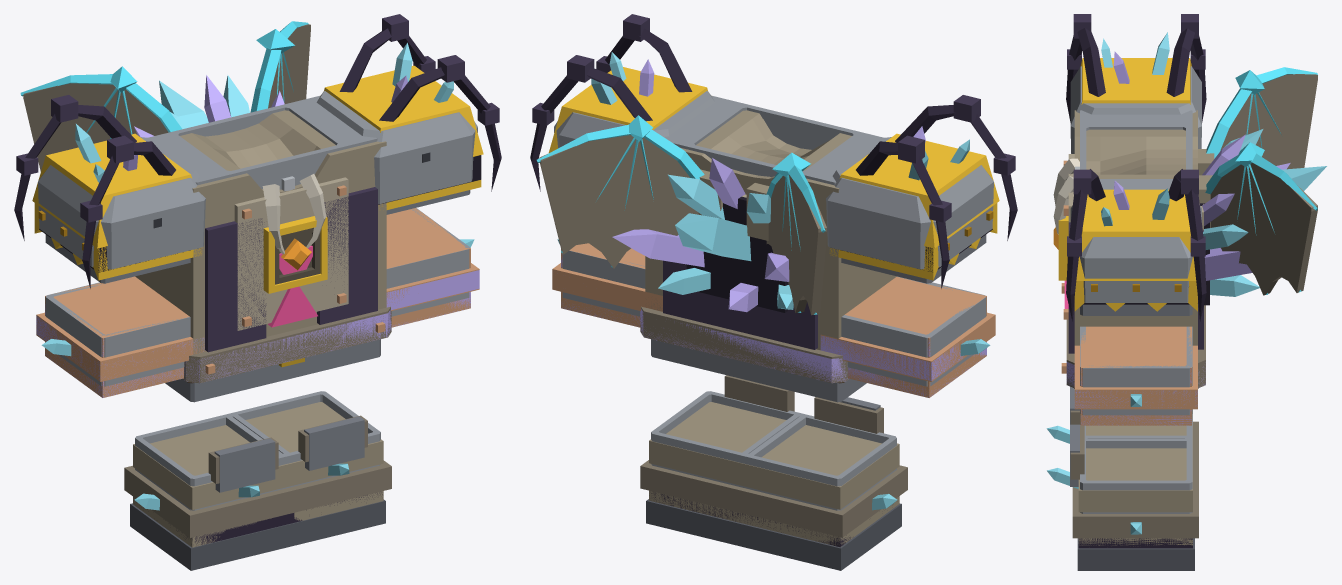
Rendered from w3_armor.fbx.
3 views of the same model, side by side, from view 1: azimuth 30°, elevation 25°; view 2: azimuth 150°, elevation 25°; view 3: azimuth 270°, elevation 25° (orthographic). The views are drawn at different scales.
Visible parts, largest first — view 1: CaveRunner.Chest, IronPlate.PauldronR, CrystalQueen.ChestPlates, CaveRunner.GloveR, CaveRunner.ChestStone, IronPlate.PauldronL, IronPlate.Plate, CaveRunner.HipStone, CaveRunner.PadR, CaveRunner.PadL, CaveRunner.BootIronR, CaveRunner.BackWingR (+36 smaller); view 2: CaveRunner.BackWingL, IronPlate.PauldronR, CaveRunner.GloveR, CaveRunner.Chest, CaveRunner.BootIronR, IronPlate.Plate, CrystalQueen.BurstCyan, CaveRunner.PadR, CaveRunner.BootIronL, CaveRunner.HipStone, CaveRunner.BackWingR, CrystalQueen.ChestPlates (+29 smaller); view 3: CaveRunner.GloveL, CaveRunner.BackWingL, CaveRunner.Chest, IronPlate.PauldronL, CaveRunner.BootIronL, CaveRunner.BackWingR, CaveRunner.PadL, IronPlate.BracerL, CaveRunner.BootGoldL, CaveRunner.PadR, CrystalQueen.LegsR, CaveRunner.WingRibs (+26 smaller).
Part boxes in pixels (x1=…): CaveRunner.Chest: x1=135, y1=95, x2=386, y2=354; IronPlate.PauldronR: x1=38, y1=137, x2=205, y2=269; CrystalQueen.ChestPlates: x1=205, y1=187, x2=377, y2=352; CaveRunner.GloveR: x1=36, y1=276, x2=205, y2=397; CaveRunner.ChestStone: x1=234, y1=177, x2=348, y2=330; IronPlate.PauldronL: x1=316, y1=90, x2=477, y2=203; IronPlate.Plate: x1=148, y1=96, x2=377, y2=189; CaveRunner.HipStone: x1=182, y1=306, x2=391, y2=383; CaveRunner.PadR: x1=32, y1=133, x2=202, y2=280; CaveRunner.PadL: x1=323, y1=65, x2=483, y2=209; CaveRunner.BootIronR: x1=133, y1=425, x2=293, y2=510; CaveRunner.BackWingR: x1=23, y1=83, x2=168, y2=171; CaveRunner.BackWingL: x1=539, y1=135, x2=698, y2=268; IronPlate.PauldronR: x1=826, y1=137, x2=993, y2=269; CaveRunner.GloveR: x1=820, y1=276, x2=995, y2=397; CaveRunner.Chest: x1=645, y1=95, x2=896, y2=350; CaveRunner.BootIronR: x1=738, y1=425, x2=899, y2=509; IronPlate.Plate: x1=664, y1=96, x2=883, y2=185; CrystalQueen.BurstCyan: x1=658, y1=174, x2=793, y2=309; CaveRunner.PadR: x1=829, y1=133, x2=999, y2=280; CaveRunner.BootIronL: x1=649, y1=402, x2=805, y2=487; CaveRunner.HipStone: x1=640, y1=306, x2=849, y2=383; CaveRunner.BackWingR: x1=766, y1=175, x2=826, y2=315; CrystalQueen.ChestPlates: x1=663, y1=260, x2=817, y2=349; CaveRunner.GloveL: x1=1074, y1=326, x2=1197, y2=425; CaveRunner.BackWingL: x1=1210, y1=162, x2=1317, y2=295; CaveRunner.Chest: x1=1074, y1=110, x2=1197, y2=345; IronPlate.PauldronL: x1=1070, y1=187, x2=1201, y2=302; CaveRunner.BootIronL: x1=1078, y1=443, x2=1192, y2=512; CaveRunner.BackWingR: x1=1220, y1=74, x2=1317, y2=169; CaveRunner.PadL: x1=1074, y1=189, x2=1197, y2=311; IronPlate.BracerL: x1=1080, y1=326, x2=1192, y2=415; CaveRunner.BootGoldL: x1=1072, y1=463, x2=1198, y2=538; CaveRunner.PadR: x1=1080, y1=58, x2=1191, y2=104; CrystalQueen.LegsR: x1=1066, y1=28, x2=1206, y2=122; CaveRunner.WingRibs: x1=1205, y1=67, x2=1317, y2=294.
Bounding box in the file's own units: 4.84 × 4.75 × 2.82.
